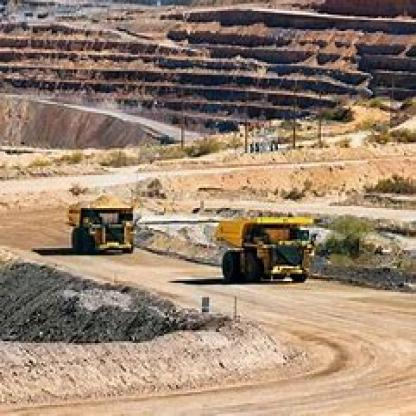dump_truck: (212, 208, 319, 288), (64, 190, 140, 257)
